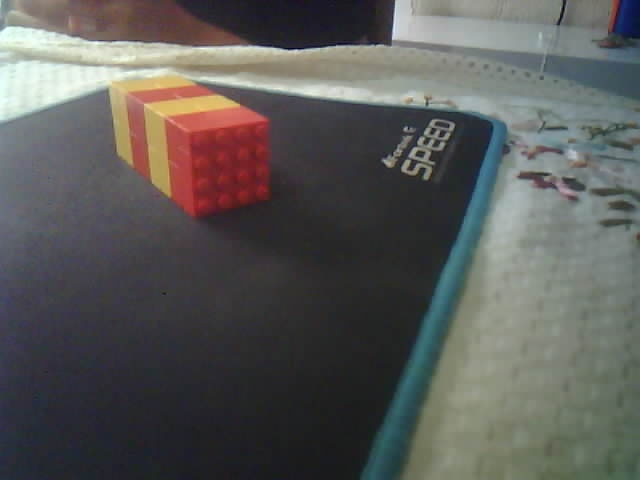lego: (106, 75, 273, 220)
